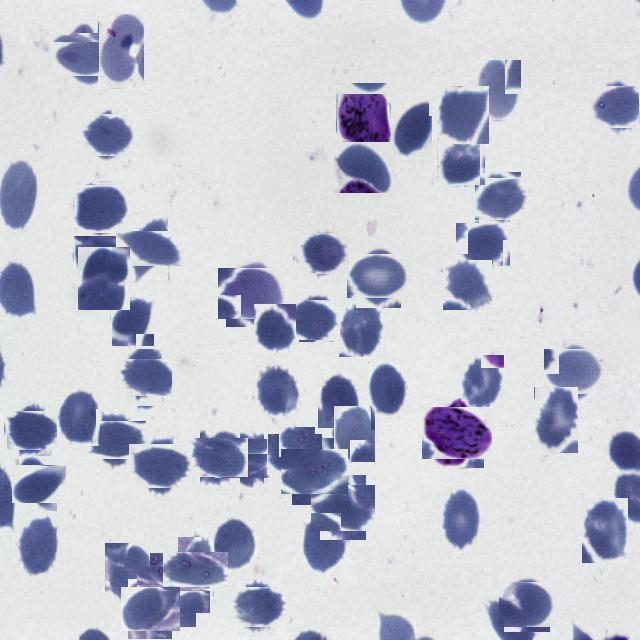gametocyte: (336, 82, 391, 154), (426, 402, 488, 464)
red blood cell: (222, 264, 282, 324), (98, 14, 144, 89), (286, 443, 344, 500), (78, 247, 130, 310), (334, 142, 394, 193), (58, 27, 113, 82), (316, 480, 370, 536), (582, 498, 628, 563), (472, 60, 521, 121), (534, 387, 578, 454), (105, 543, 153, 604), (133, 439, 187, 493), (548, 344, 602, 398), (352, 250, 406, 304), (439, 86, 489, 144), (74, 183, 126, 235), (124, 223, 176, 275), (124, 583, 176, 635), (17, 514, 59, 578), (302, 516, 348, 574), (442, 487, 482, 552), (171, 544, 221, 595), (460, 355, 504, 412), (444, 260, 494, 310), (502, 580, 552, 630), (57, 388, 100, 446), (390, 100, 432, 159), (339, 301, 383, 357), (90, 415, 140, 464), (458, 220, 508, 269), (234, 583, 283, 632), (220, 434, 268, 484), (333, 406, 375, 463), (213, 517, 256, 571), (83, 110, 131, 158), (8, 407, 56, 455), (120, 354, 168, 402), (196, 434, 244, 482), (258, 366, 302, 418), (74, 236, 126, 280), (476, 175, 524, 222), (270, 431, 318, 478), (593, 83, 640, 131), (318, 373, 359, 428), (438, 140, 484, 187), (292, 297, 338, 343), (302, 230, 348, 276), (111, 298, 154, 347), (254, 304, 296, 354), (16, 461, 62, 506), (368, 362, 406, 416)
ring: (143, 560, 203, 620)
